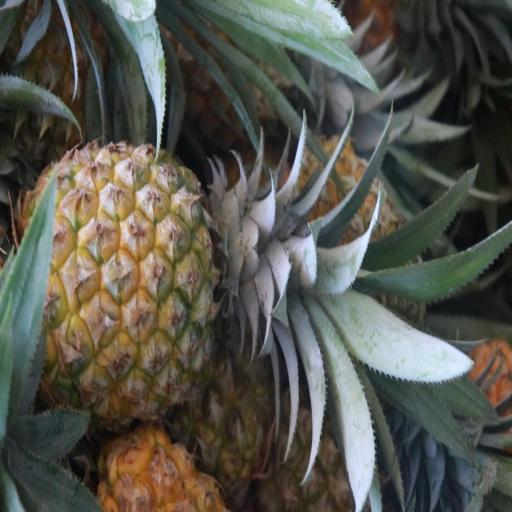Pineapple - v8 v1: (26, 148, 234, 426), (255, 336, 388, 512)
